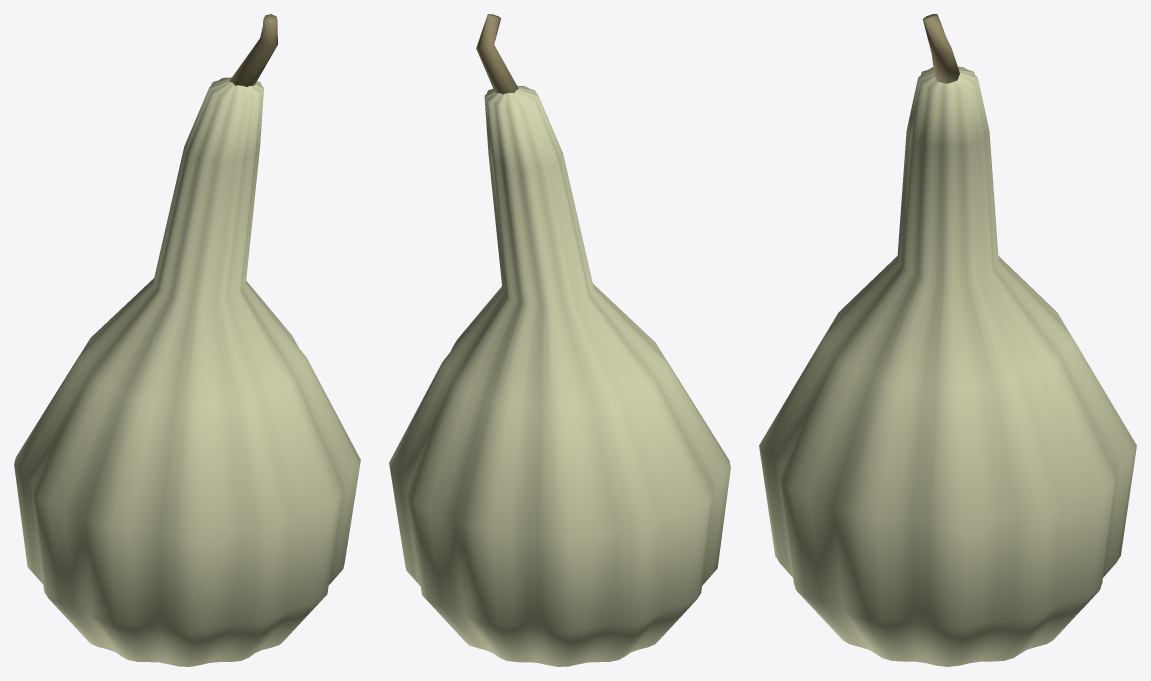
Rendered from gourd.glb.
3 views of the same model, side by side, from view 1: azimuth 30°, elevation 25°; view 2: azimuth 150°, elevation 25°; view 3: azimuth 270°, elevation 25° (orthographic). The views are drawn at different scales.
Parts seen in each view (by area): view 1: gourd__body, gourd__stem; view 2: gourd__body, gourd__stem; view 3: gourd__body, gourd__stem.
Boxes of the visible parts, x1=… form: gourd__body: x1=14, y1=77, x2=360, y2=666; gourd__stem: x1=229, y1=14, x2=277, y2=86; gourd__body: x1=389, y1=85, x2=730, y2=666; gourd__stem: x1=476, y1=14, x2=518, y2=94; gourd__body: x1=759, y1=66, x2=1136, y2=666; gourd__stem: x1=922, y1=14, x2=959, y2=83.
Size of the model in its own units: 0.1697 by 0.3182 by 0.1697.
